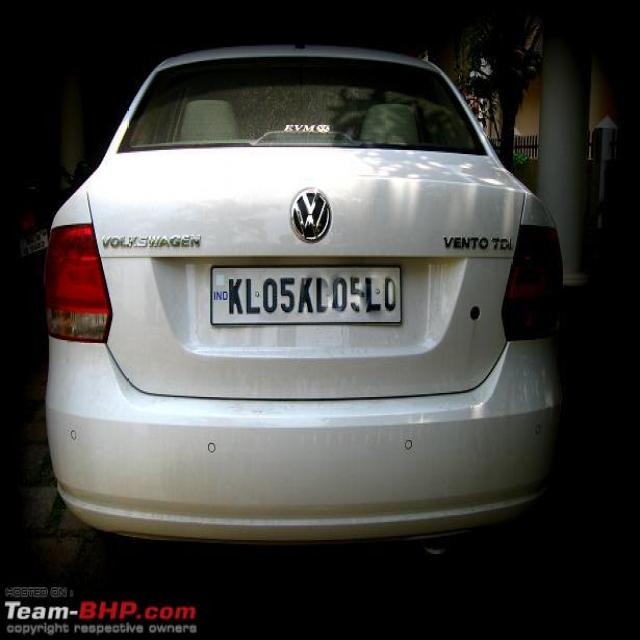Number-Plate: (215, 265, 400, 323)
